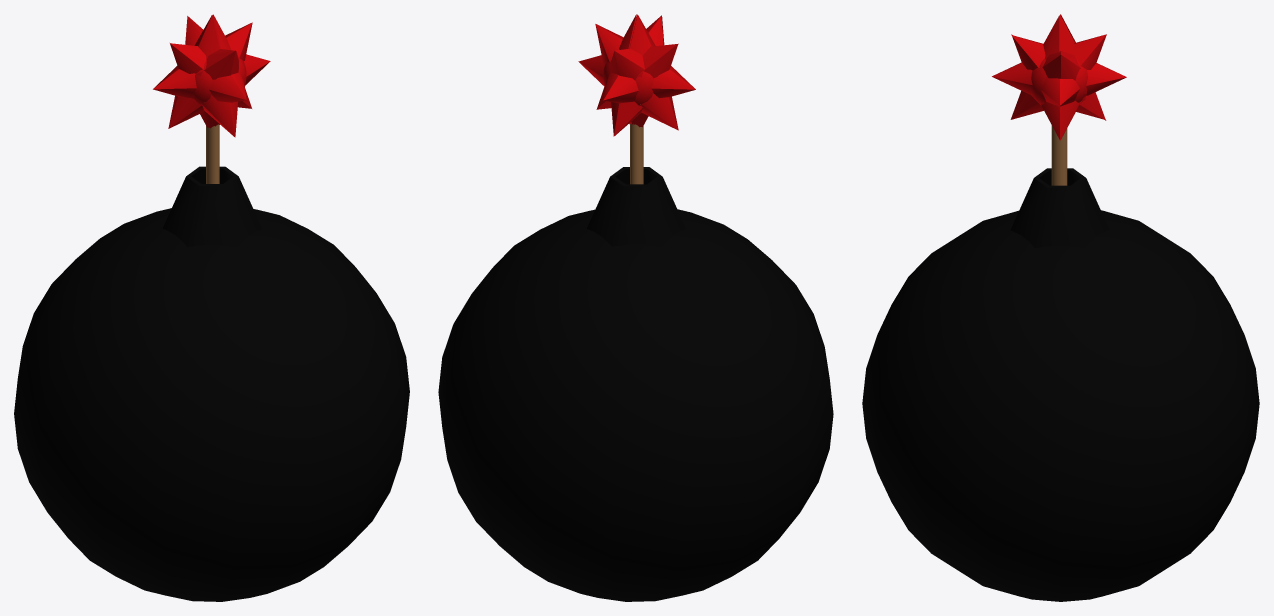
File: bomb.fbx
3 renders of one model, left to right at view 1: azimuth 30°, elevation 25°; view 2: azimuth 150°, elevation 25°; view 3: azimuth 270°, elevation 25°, orthographic.
Parts seen in each view (by area): view 1: obj2; view 2: obj2; view 3: obj2.
Boxes of the visible parts, <box> form: obj2: <box>14,14,409,601</box>; obj2: <box>438,14,833,601</box>; obj2: <box>862,14,1259,601</box>.
Size of the model in its own units: 343 by 540 by 343.
